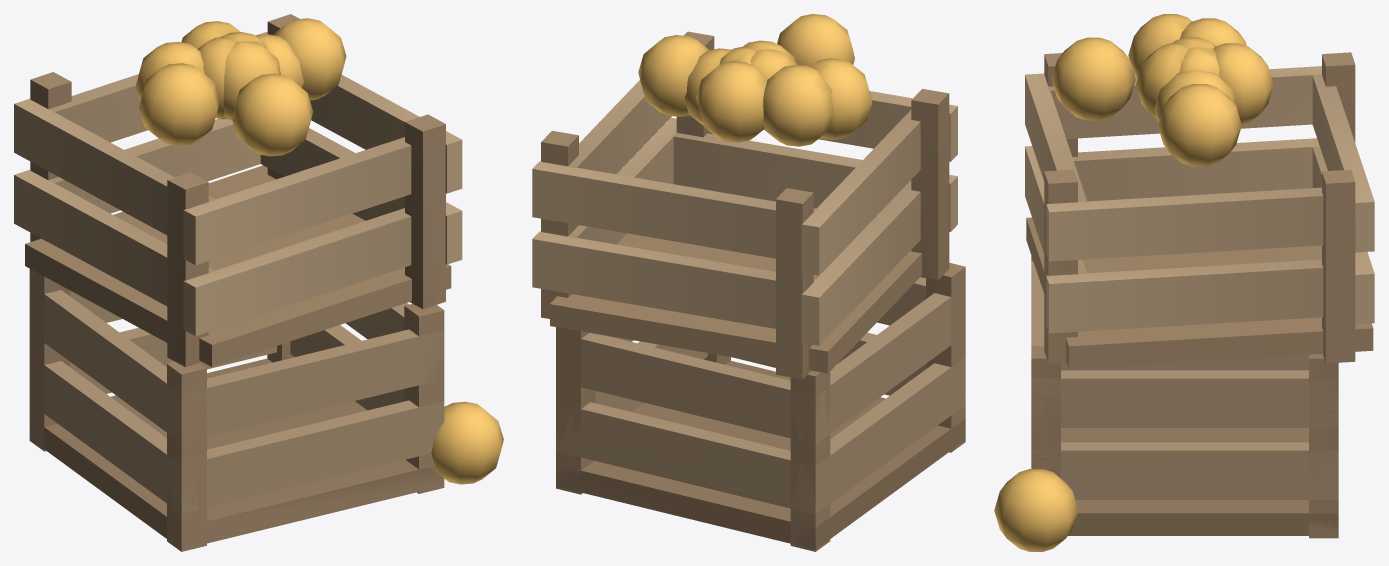
The model's file is Kerb_CrateStack.fbx.
3 renders of one model, left to right at view 1: azimuth 30°, elevation 25°; view 2: azimuth 150°, elevation 25°; view 3: azimuth 270°, elevation 25°, orthographic. The views are drawn at different scales.
Visible parts, largest first — view 1: Kerb_CrateStack; view 2: Kerb_CrateStack; view 3: Kerb_CrateStack.
Part boxes in pixels (x1,y1,x2,y2): Kerb_CrateStack: (14,14,503,551); Kerb_CrateStack: (532,14,965,551); Kerb_CrateStack: (994,14,1374,551).
Size of the model in its own units: 0.7738 by 0.9539 by 0.7679.
